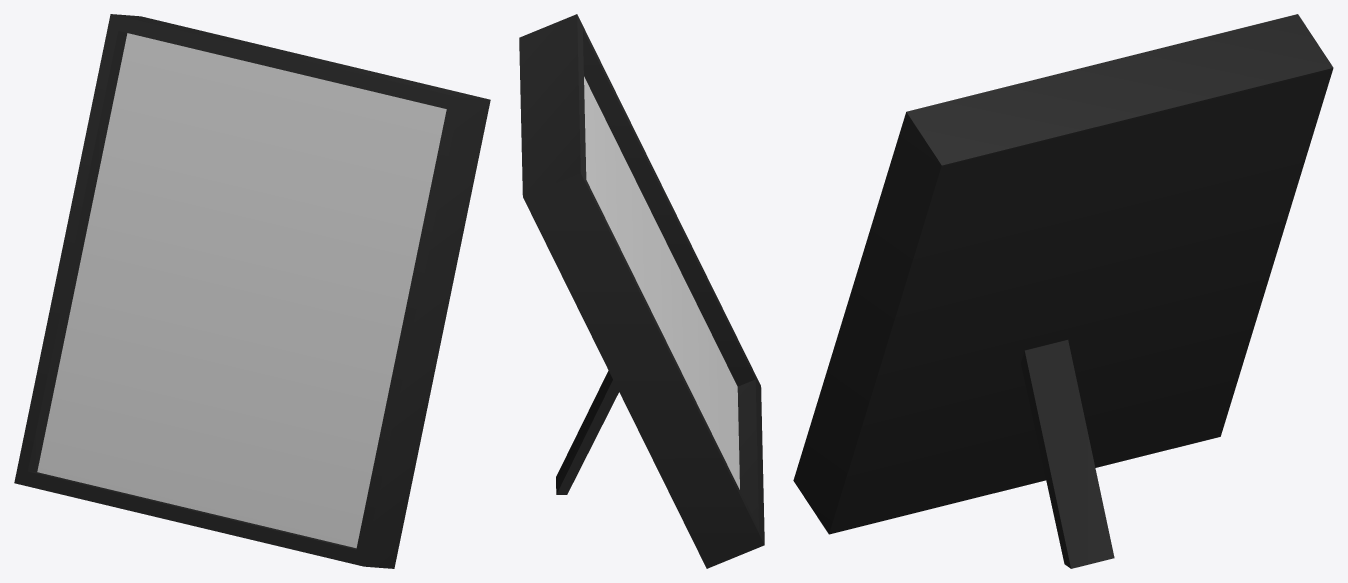
Rendered from Photo_Frame.fbx.
3 renders of one model, left to right at view 1: azimuth 30°, elevation 25°; view 2: azimuth 150°, elevation 25°; view 3: azimuth 270°, elevation 25°, orthographic. The views are drawn at different scales.
Visible parts, largest first — view 1: Photo_Frame; view 2: Photo_Frame; view 3: Photo_Frame.
Boxes of the visible parts, box(x1,y1,x2,y2) form: Photo_Frame: box(14, 14, 490, 568); Photo_Frame: box(519, 14, 764, 568); Photo_Frame: box(793, 14, 1333, 568).
Bounding box in the file's own units: 20.36 × 22.57 × 22.79.
Materials: 1 (1 with a texture image).
